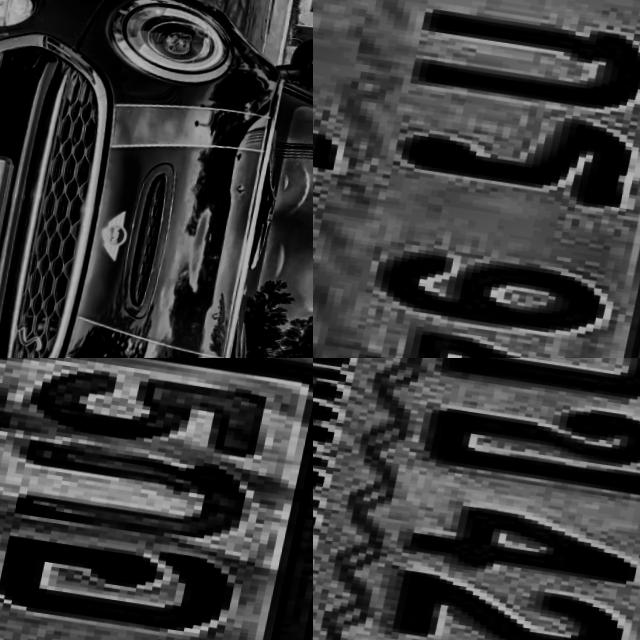license-plate: (313, 0, 640, 358), (313, 358, 640, 640), (0, 358, 313, 640), (0, 142, 28, 281)
